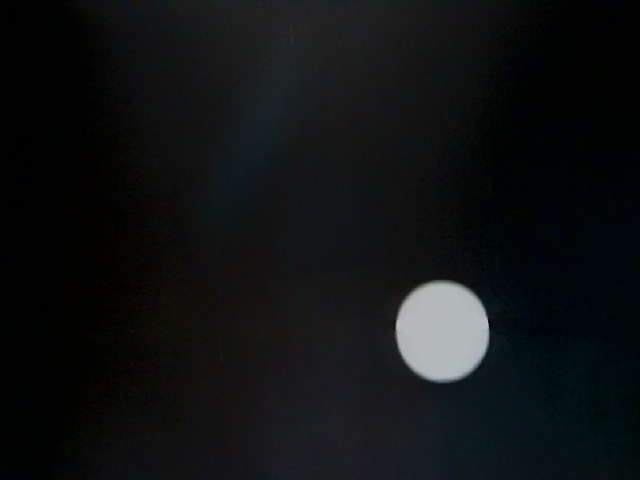QTLJ: (348, 151, 618, 326)
